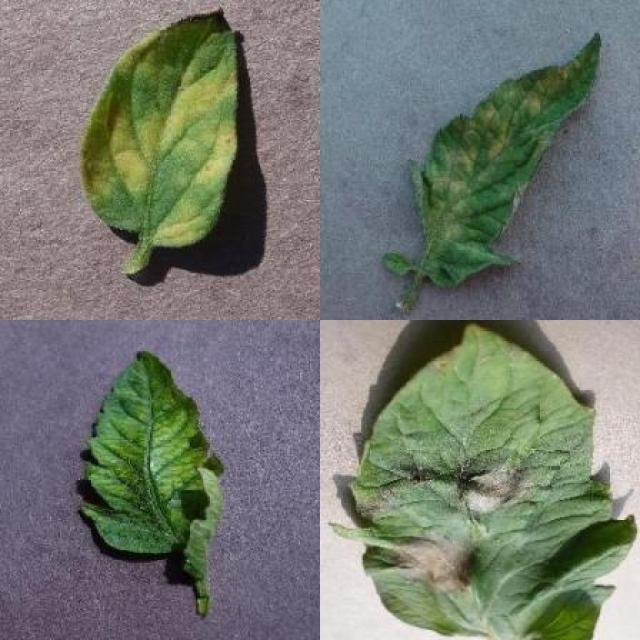Late Blight: (324, 323, 639, 640)
Leaf Mold: (407, 28, 602, 288), (80, 9, 240, 247)
Mosaic Virus: (76, 349, 227, 556)
